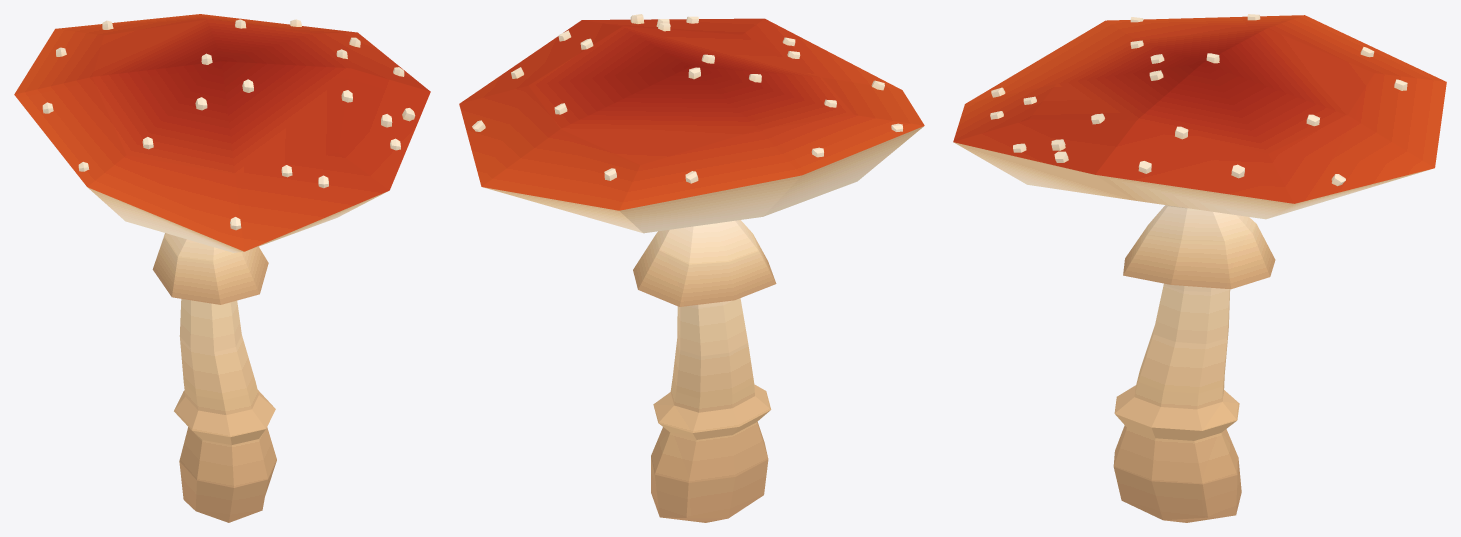
File: Large_FlyAgaric.glb
3 views of the same model, side by side, from view 1: azimuth 30°, elevation 25°; view 2: azimuth 150°, elevation 25°; view 3: azimuth 270°, elevation 25° (orthographic). The views are drawn at different scales.
Parts seen in each view (by area): view 1: Large; view 2: Large; view 3: Large.
Boxes of the visible parts, left/top/right/bottom form: Large: left=14, top=14, right=430, bottom=522; Large: left=459, top=14, right=924, bottom=522; Large: left=953, top=14, right=1446, bottom=522.
Bounding box in the file's own units: 7.37 × 8.79 × 8.41.
Materials: 1 (1 with a texture image).
